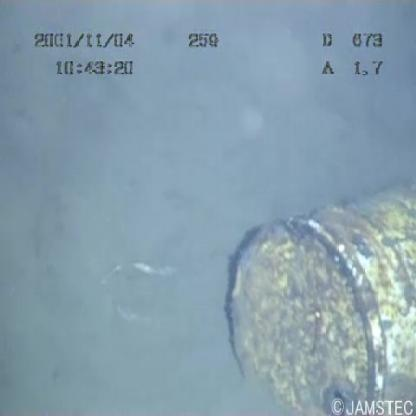Rác: (203, 173, 416, 415)
